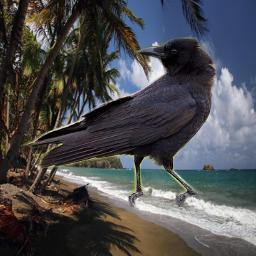Crow: (21, 37, 219, 207)
